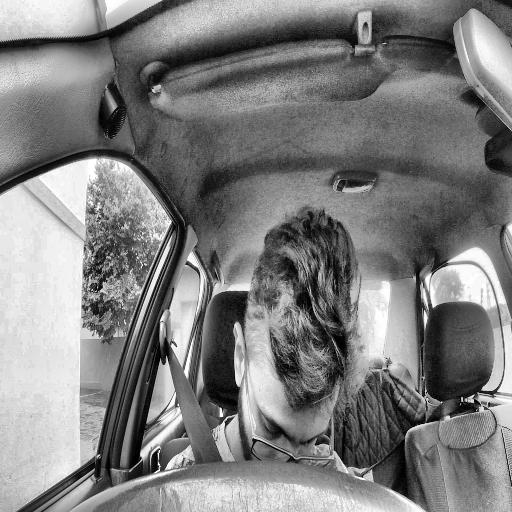drowsy: (234, 206, 368, 478)
